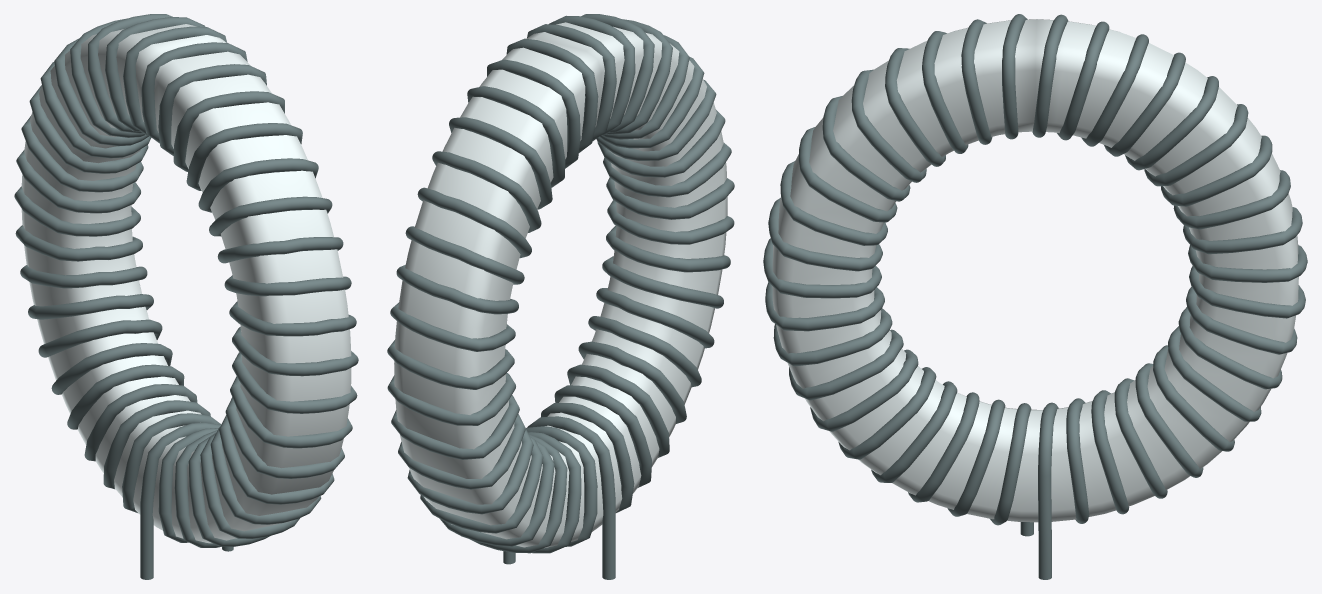
Rendered from TortusComponent.fbx.
3 views of the same model, side by side, from view 1: azimuth 30°, elevation 25°; view 2: azimuth 150°, elevation 25°; view 3: azimuth 270°, elevation 25° (orthographic).
Visible parts, largest first — view 1: Spiral.001; view 2: Spiral.001; view 3: Spiral.001.
Boxes of the visible parts, box(x1,y1,x2,y2) form: Spiral.001: box(14, 14, 358, 579); Spiral.001: box(387, 14, 734, 579); Spiral.001: box(763, 14, 1307, 579).
Bounding box in the file's own units: 58.13 × 291 × 271.
Materials: 1 (1 with a texture image).
